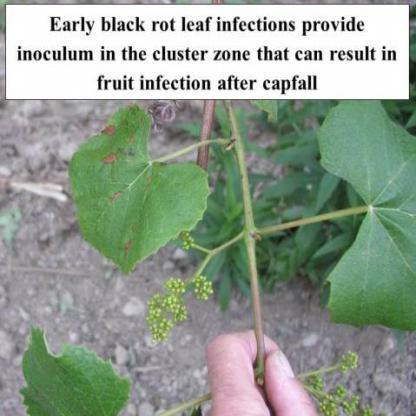grape leaf: (60, 103, 216, 279)
